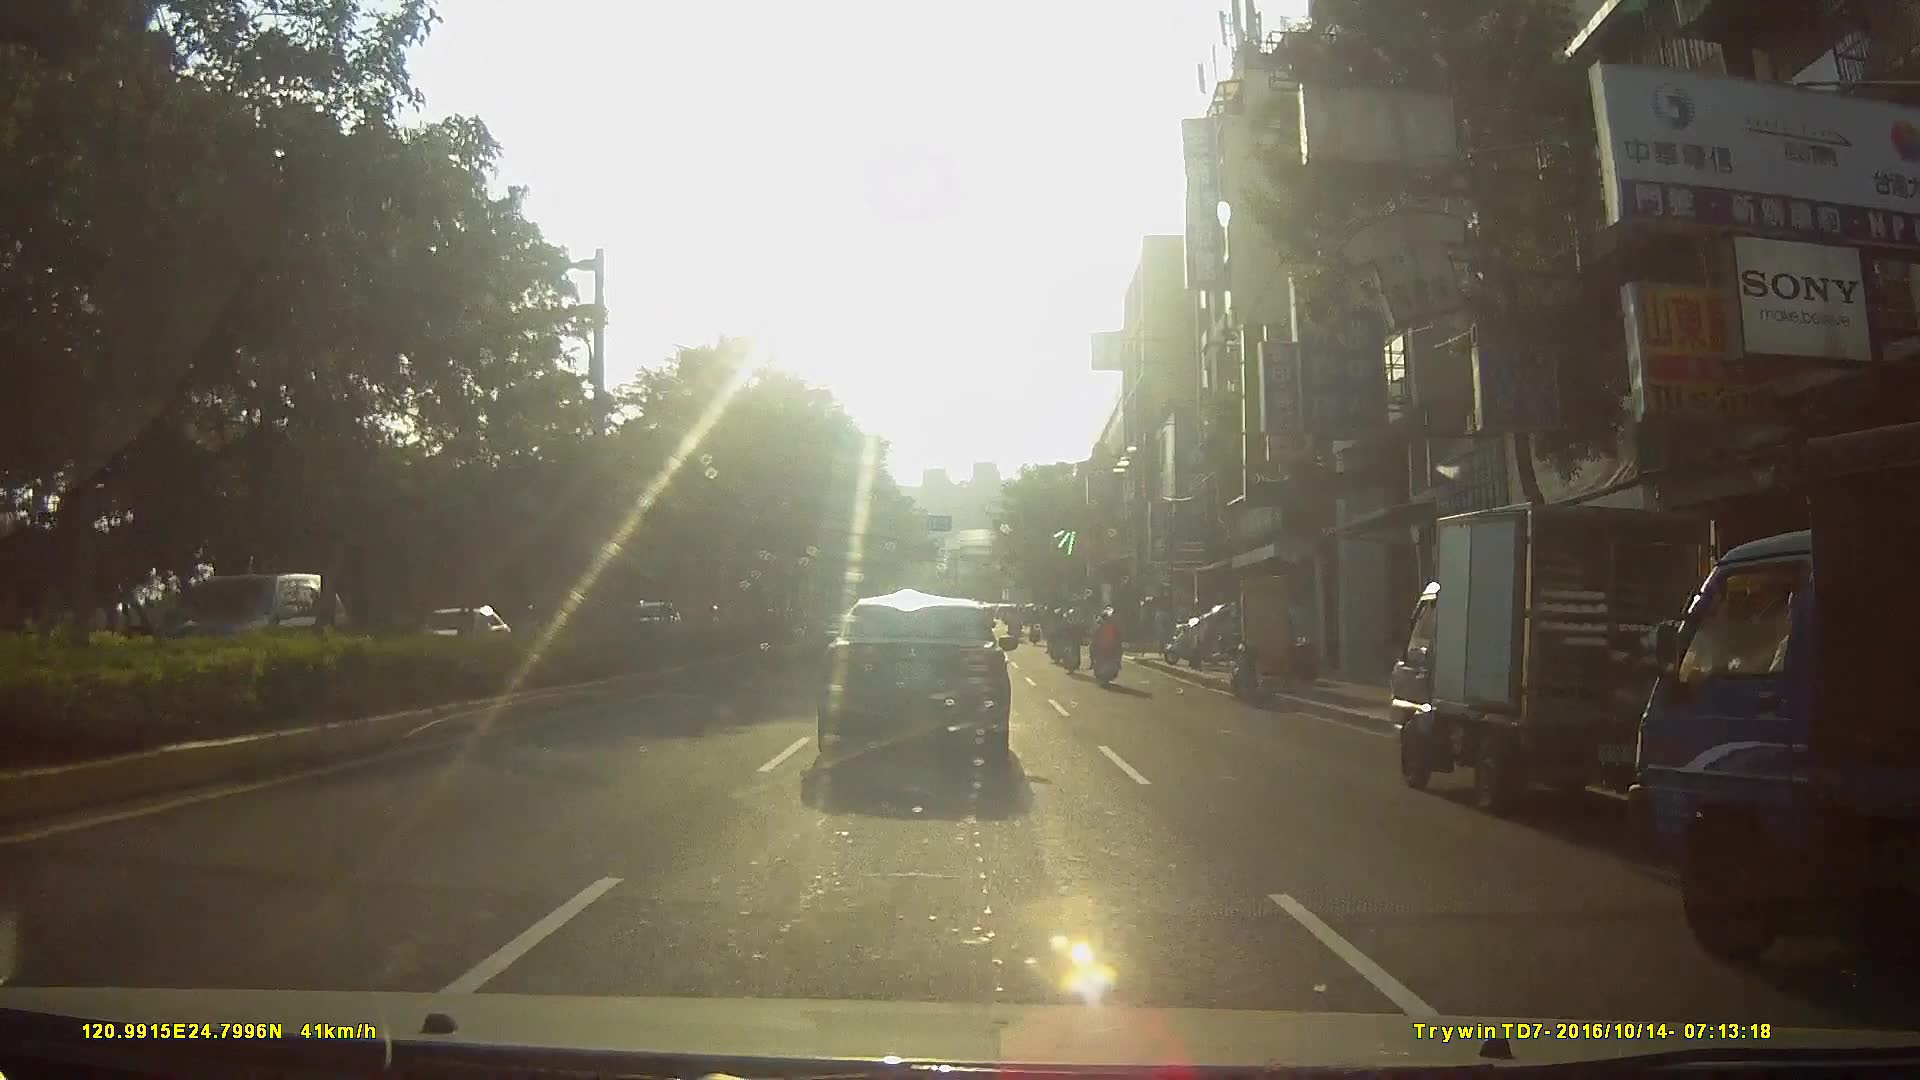rider: (1088, 610, 1125, 690), (1057, 606, 1085, 677), (1047, 606, 1067, 664)
vehicle: (1624, 419, 1920, 976), (1381, 488, 1724, 814), (811, 592, 1024, 785), (142, 572, 352, 685)
